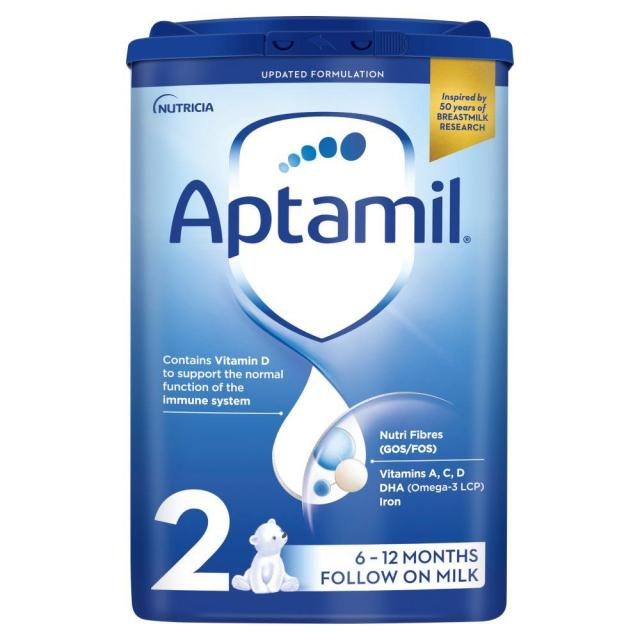formula-milk: (146, 56, 508, 610)
